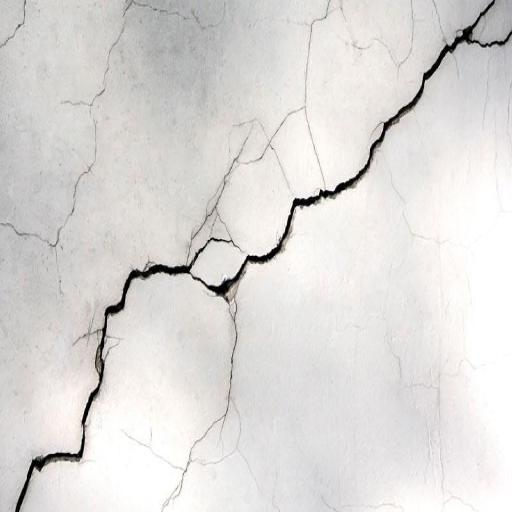spalling: (10, 1, 512, 511), (5, 4, 136, 295), (186, 2, 336, 240), (2, 5, 28, 50)
